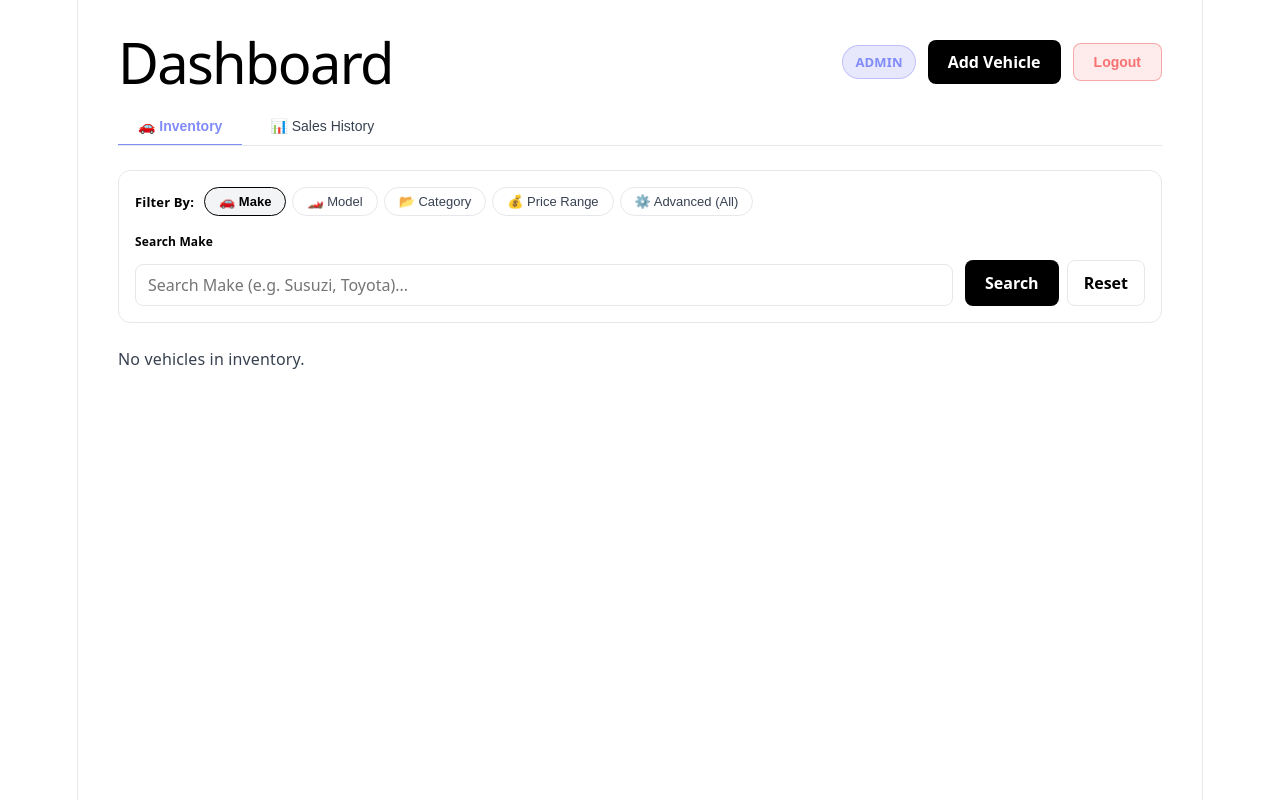
Test: Dashboard Page › should fetch and render all sales for ADMIN when Sales History tab is clicked
// Click the Sales History tab
Step 1. Click the button "📊 Sales History" → coordinates (322, 127), box x1=250 y1=108 x2=394 y2=146
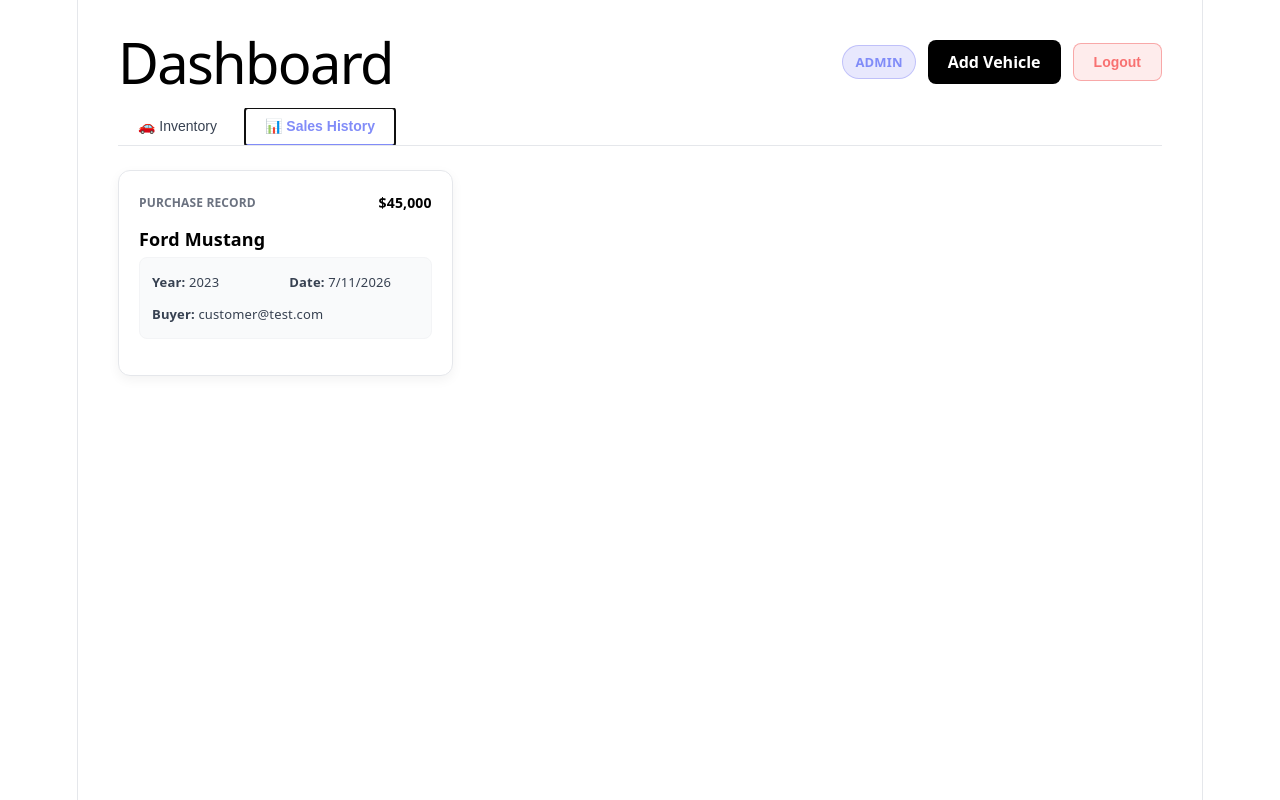
Expected: the text "customer@test.com" is shown, x1=198 y1=305 x2=323 y2=323
